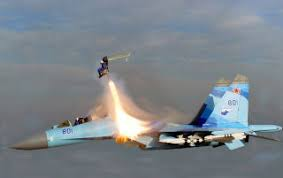maybay_muctieu: (14, 79, 283, 164)
